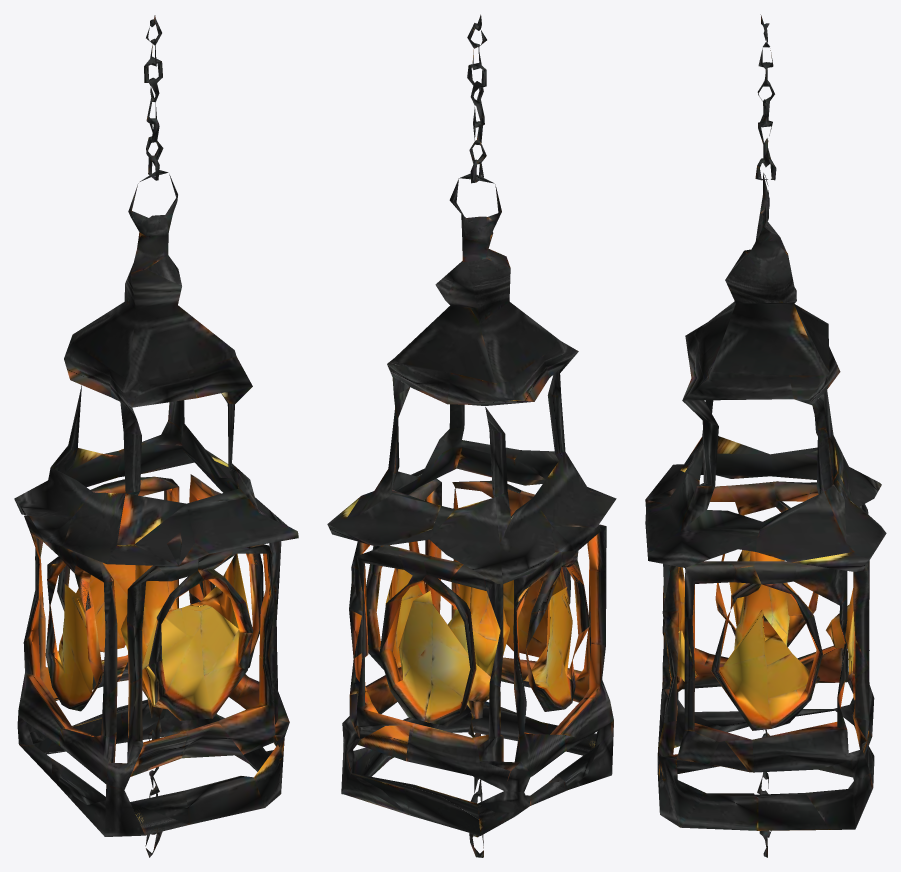
File: hanging-lantern.glb
3 renders of one model, left to right at view 1: azimuth 30°, elevation 25°; view 2: azimuth 150°, elevation 25°; view 3: azimuth 270°, elevation 25°, orthographic.
Bounding box in the file's own units: 0.4589 × 1.78 × 0.4604.
1 material, 1 textured.
